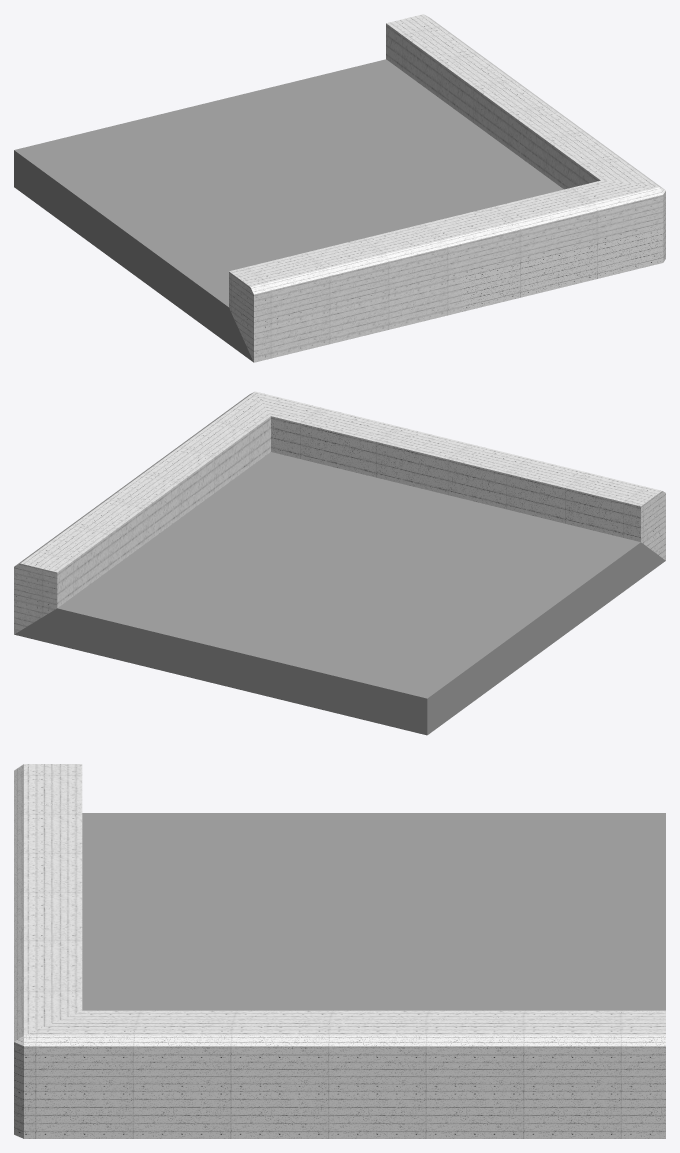
The model's file is twoquarter planter.fbx.
3 renders of one model, top to bottom at view 1: azimuth 30°, elevation 25°; view 2: azimuth 150°, elevation 25°; view 3: azimuth 270°, elevation 25°, orthographic. The views are drawn at different scales.
Parts seen in each view (by area): view 1: planter1; view 2: planter1; view 3: planter1.
Part boxes in pixels (x1,y1,x2,y2): planter1: [14, 14, 665, 362]; planter1: [14, 391, 665, 735]; planter1: [14, 764, 665, 1138].
Bounding box in the file's own units: 300 × 50.38 × 300.
